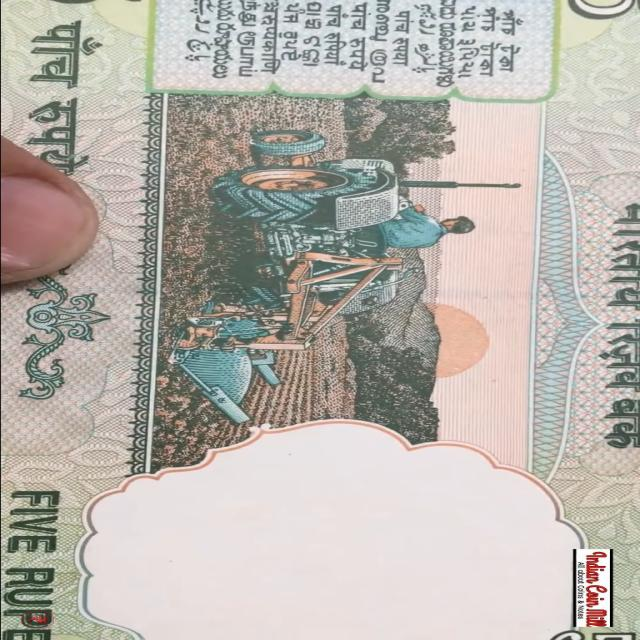5IndianRupees: (2, 3, 640, 630)
